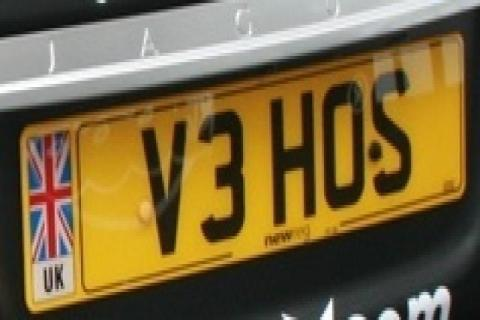LicensePlate: (11, 21, 472, 310)
